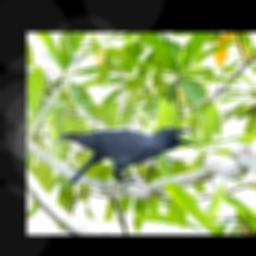Crow: (57, 125, 194, 185)
